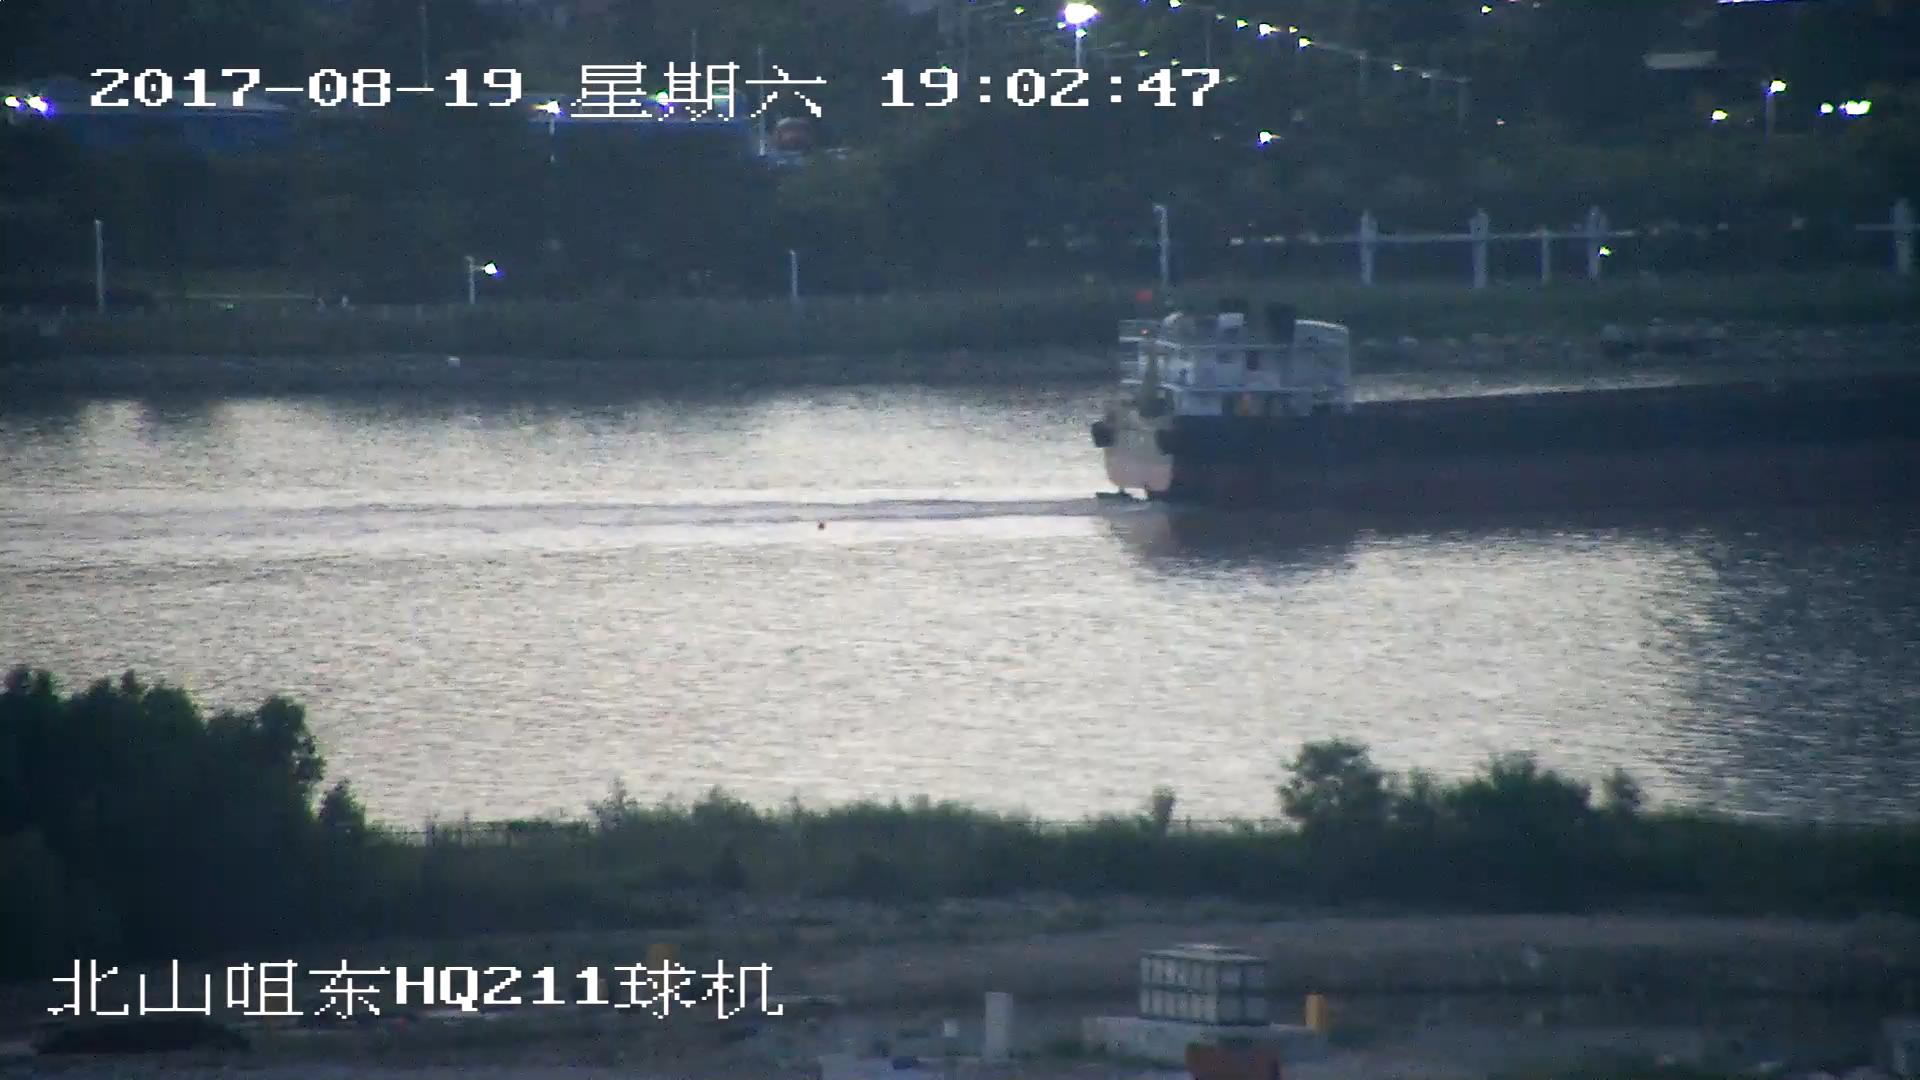general cargo ship: (1095, 313, 1920, 508)
